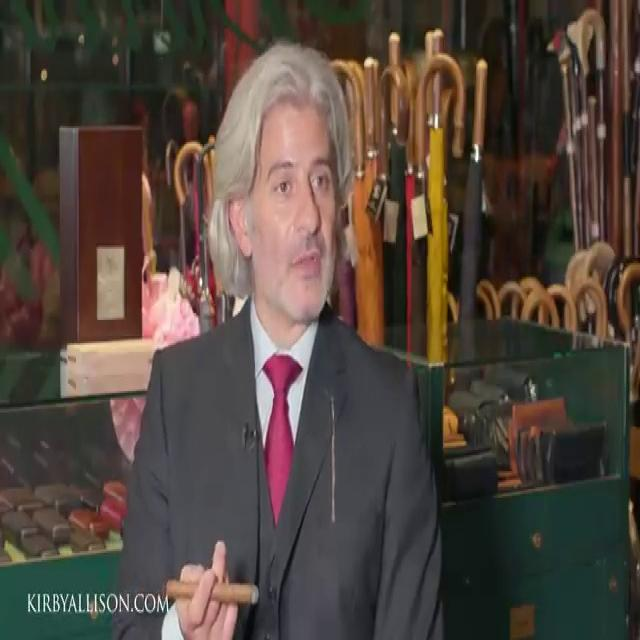Smooking: (160, 564, 269, 622)
